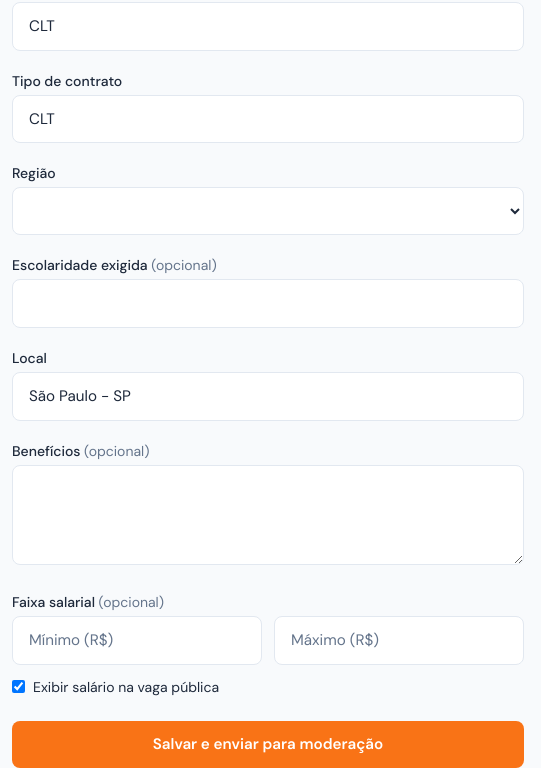
JobEditForm — mode="active-edit" (USP-023, default, comportamento existente) › editJob falha → mostra erro e NÃO encadeia submitJobForModeration
(page scrolled)
Click the button "Salvar e enviar para moderação" at (268, 744), box [12,721,524,767]
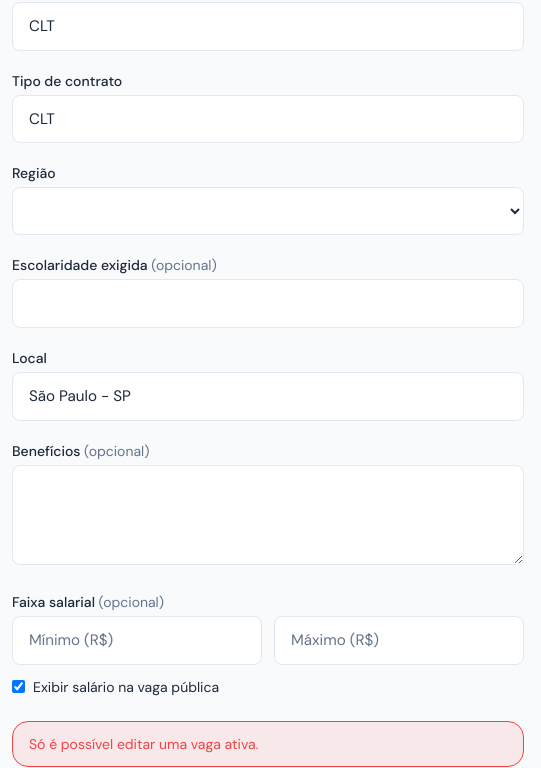
Check: the message reads "Só é possível editar uma vaga ativa.", box [29,735,258,753]
